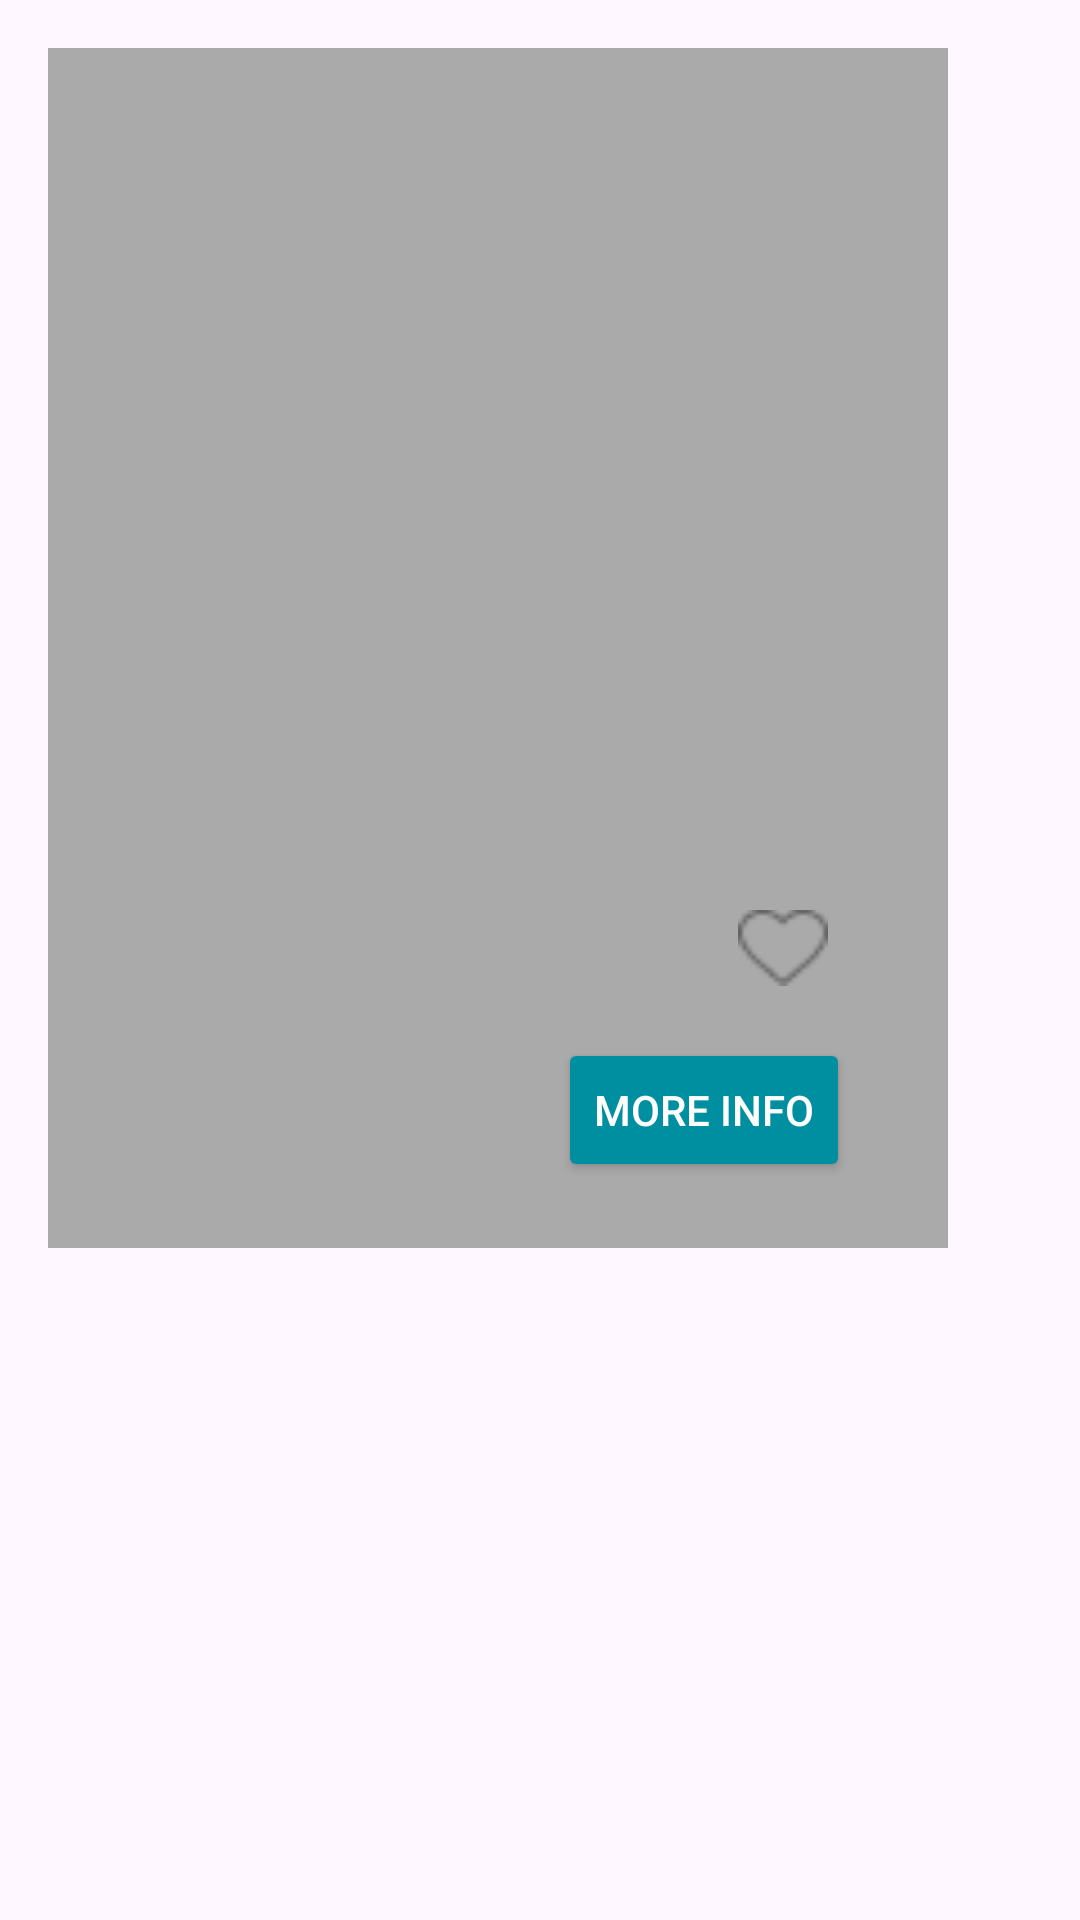

Screen size 1080 × 1920. Icon name, then its box in pixels as (x1, y1, x2, y2):
like off: (738, 910, 828, 986)
